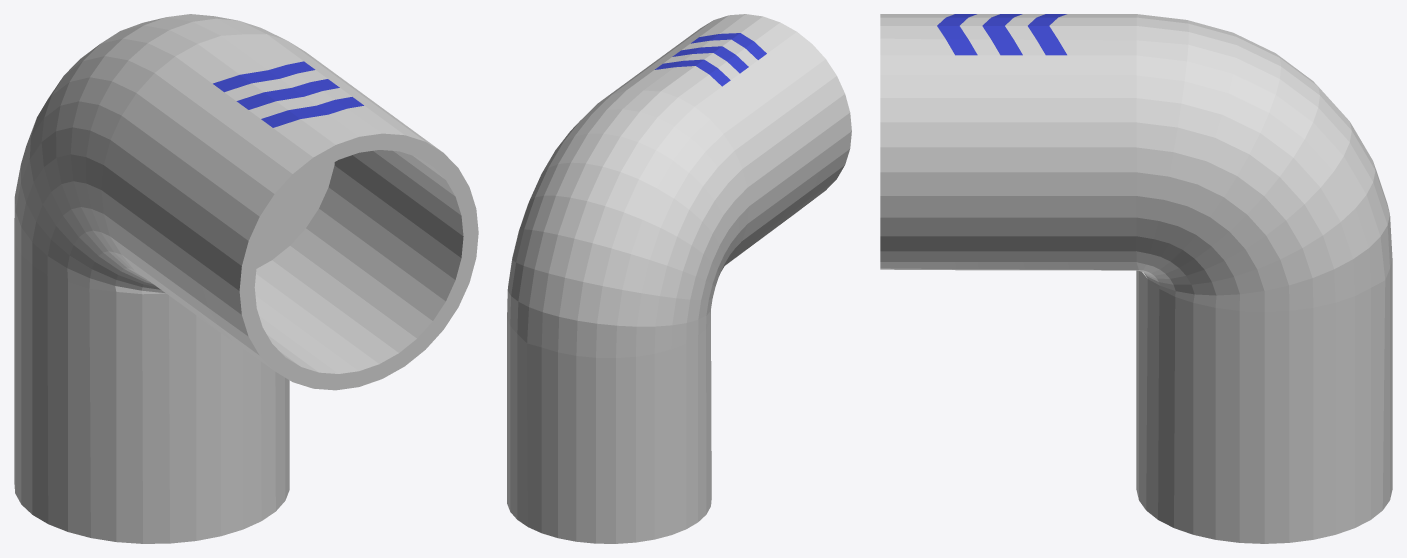
The model's file is SenderChannel.fbx.
The picture shows the model from 3 angles, left to right: view 1: azimuth 30°, elevation 25°; view 2: azimuth 150°, elevation 25°; view 3: azimuth 270°, elevation 25°; orthographic projection. The views are drawn at different scales.
Visible parts, largest first — view 1: Cylinder.002; view 2: Cylinder.002; view 3: Cylinder.002.
Part boxes in pixels (x1,y1,x2,y2): Cylinder.002: (14,14,478,543); Cylinder.002: (507,14,851,543); Cylinder.002: (880,14,1392,543).
Bounding box in the file's own units: 200 × 400 × 400.
